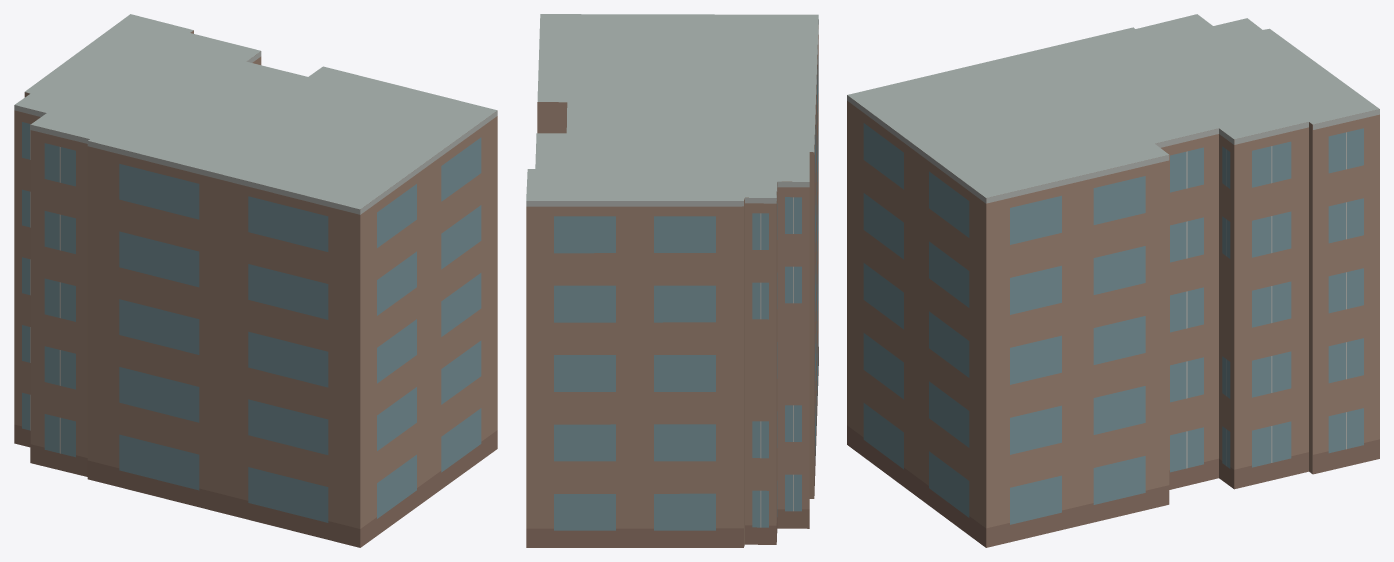
Rendered from survey-upis-32696161.glb.
3 renders of one model, left to right at view 1: azimuth 30°, elevation 25°; view 2: azimuth 150°, elevation 25°; view 3: azimuth 270°, elevation 25°, orthographic. The views are drawn at different scales.
Visible parts, largest first — view 1: survey-upis-32696161.tmp; view 2: survey-upis-32696161.tmp; view 3: survey-upis-32696161.tmp.
Part boxes in pixels (bbox=[...]): survey-upis-32696161.tmp: bbox=[14, 14, 497, 547]; survey-upis-32696161.tmp: bbox=[526, 14, 818, 547]; survey-upis-32696161.tmp: bbox=[847, 14, 1379, 547].
Bounding box in the file's own units: 17.22 × 15.25 × 21.06.
